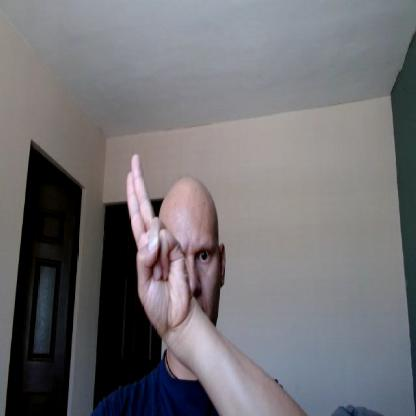U: (127, 154, 190, 334)
